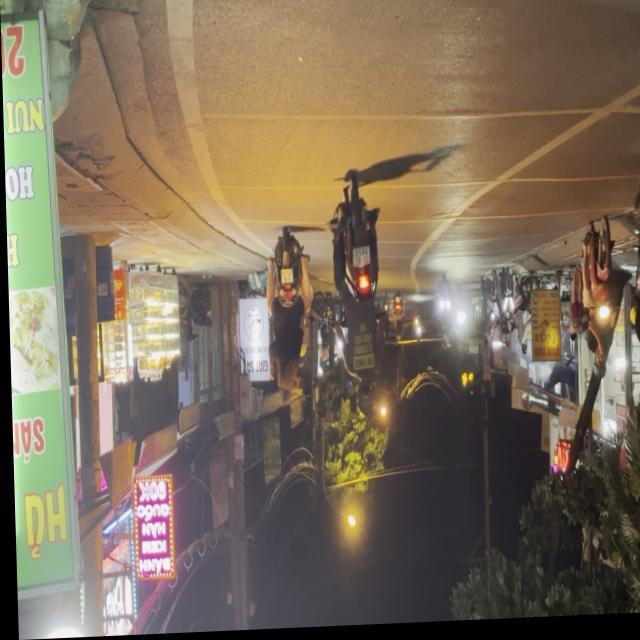helmet: (354, 384, 373, 419), (591, 354, 607, 387)
licenseplate: (325, 182, 388, 422), (577, 221, 624, 390), (627, 159, 640, 413)
nohelmet: (351, 251, 370, 271)
